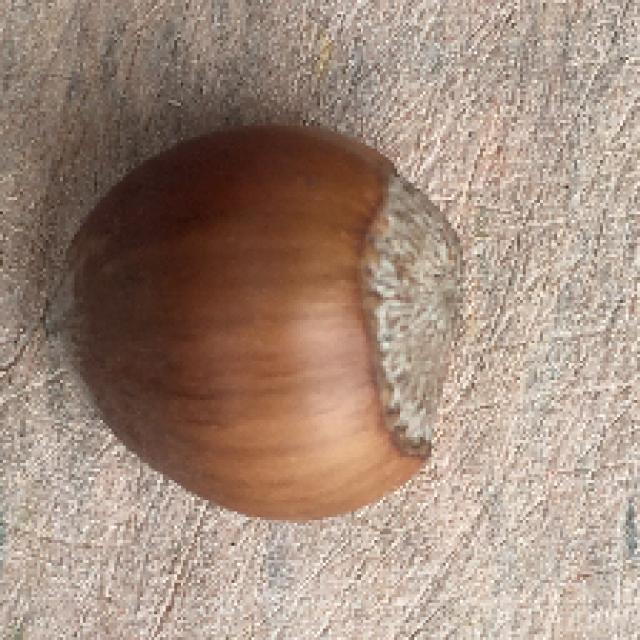DamagedHazelnut: (49, 125, 465, 521)
